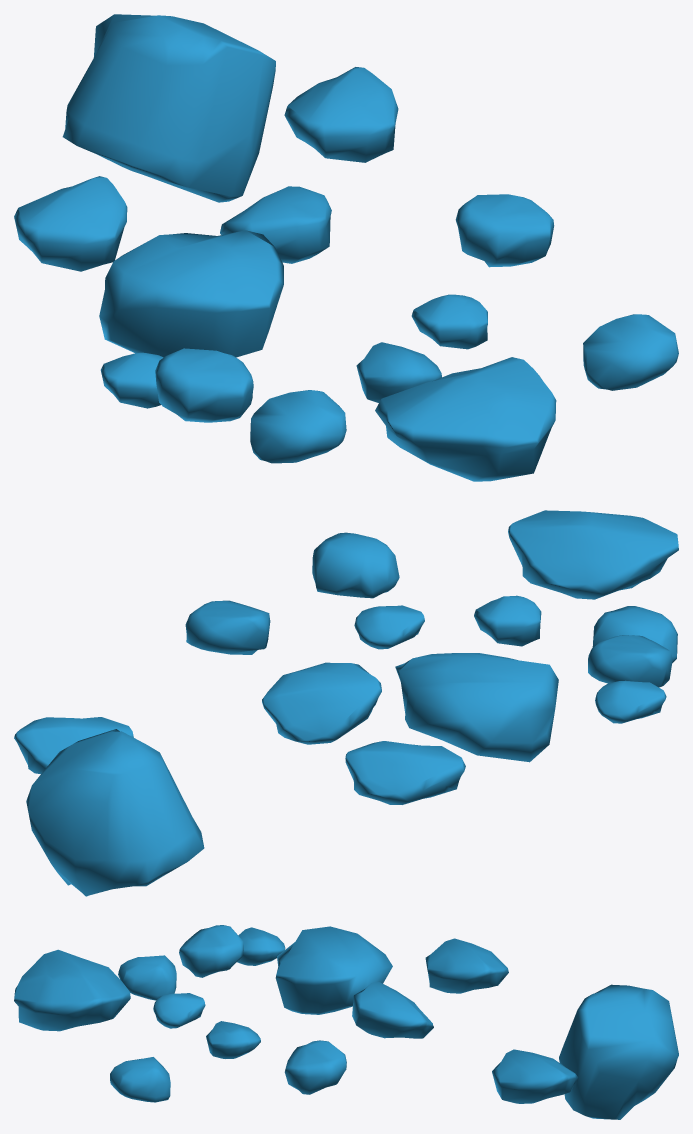
Rendered from Scree_02_Lod1.fbx.
The picture shows the model from 3 angles, top to bottom: view 1: azimuth 30°, elevation 25°; view 2: azimuth 150°, elevation 25°; view 3: azimuth 270°, elevation 25°; orthographic projection. The views are drawn at different scales.
Visible parts, largest first — view 1: Scree_02_Lod1; view 2: Scree_02_Lod1; view 3: Scree_02_Lod1.
Part boxes in pixels (x1,y1,x2,y2): Scree_02_Lod1: [14, 14, 678, 481]; Scree_02_Lod1: [14, 510, 678, 896]; Scree_02_Lod1: [14, 925, 678, 1119].
Size of the model in its own units: 1527 by 500 by 2695.
